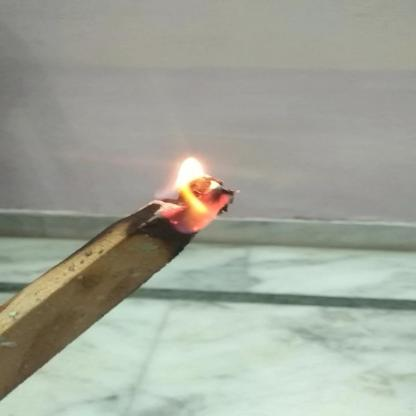fire: (147, 149, 239, 240)
